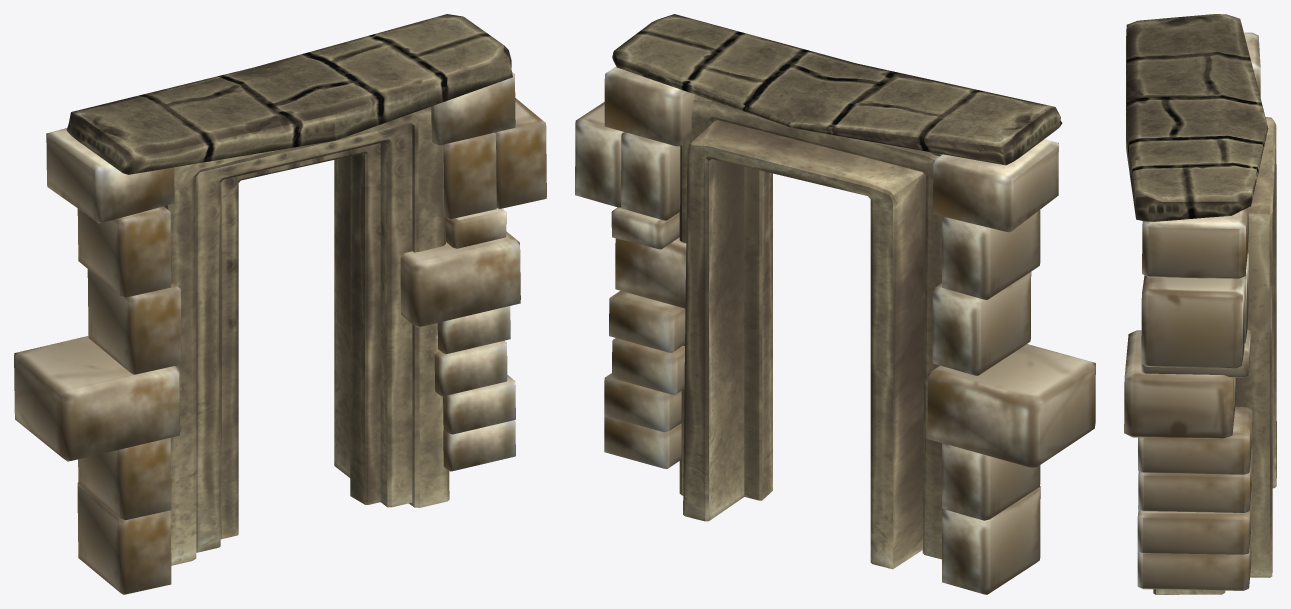
The model's file is MOD_MECA_TEMPLE_COLIDER_PORTEB.FBX.
The picture shows the model from 3 angles, left to right: view 1: azimuth 30°, elevation 25°; view 2: azimuth 150°, elevation 25°; view 3: azimuth 270°, elevation 25°; orthographic projection. The views are drawn at different scales.
Visible parts, largest first — view 1: MOD_TEMPLE_MECA_PorteB002; view 2: MOD_TEMPLE_MECA_PorteB002; view 3: MOD_TEMPLE_MECA_PorteB002.
Boxes of the visible parts, x1,y1,x2,y2 form: MOD_TEMPLE_MECA_PorteB002: (14,14,546,594); MOD_TEMPLE_MECA_PorteB002: (575,14,1095,594); MOD_TEMPLE_MECA_PorteB002: (1124,14,1276,594).
Size of the model in its own units: 22.04 by 19.91 by 6.29.
